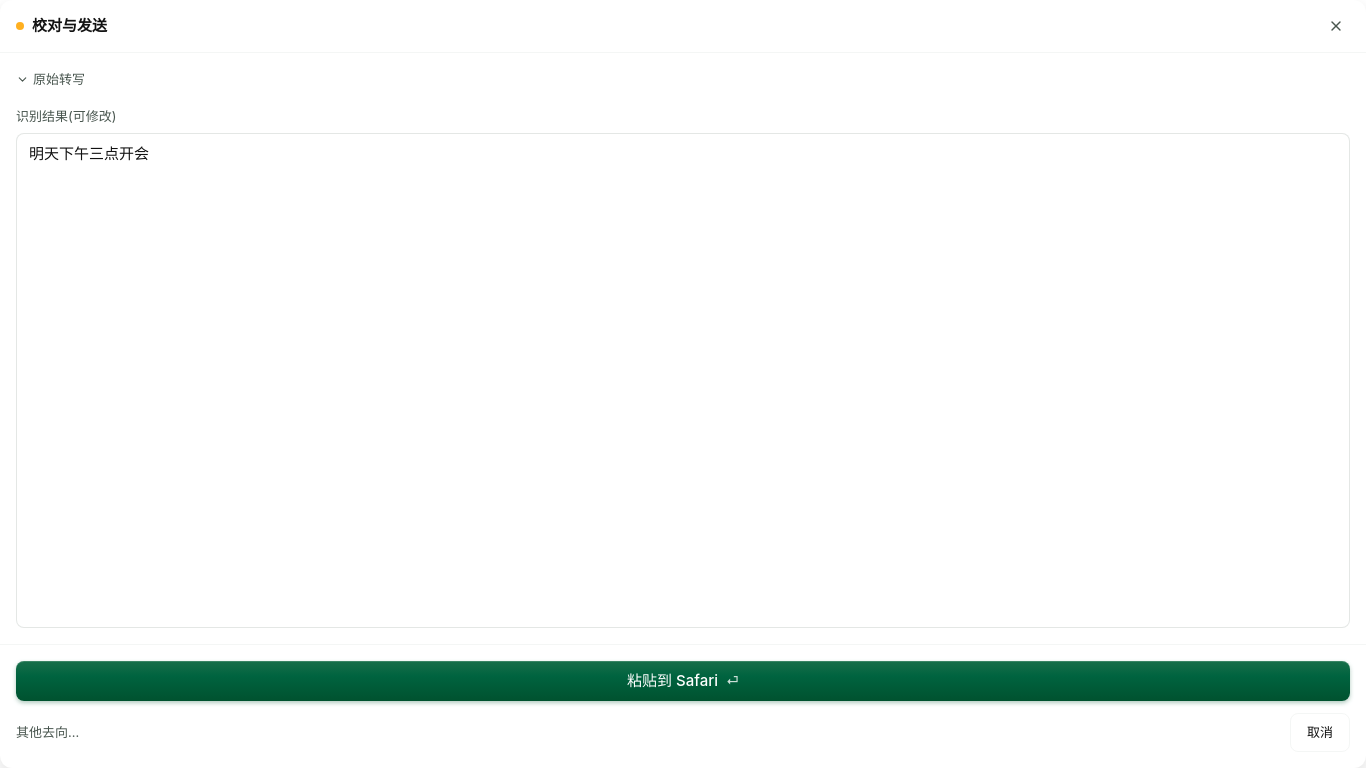
Scenario: review 浮窗页 › 其他去向面板按 available 禁用
Click the button "其他去向…": click(48, 733) [16,722,79,743]
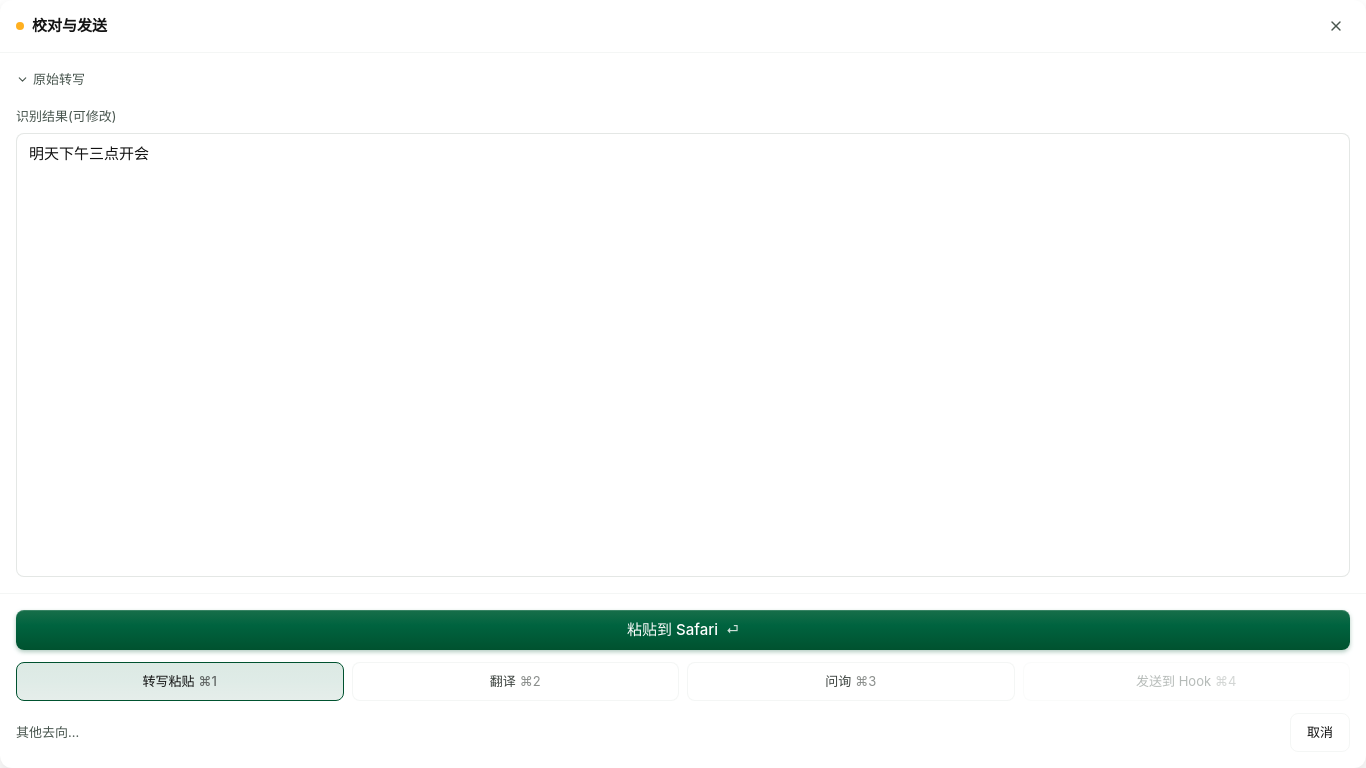
Expected: the button "发送到 Hook⌘4" is disabled, [1022,662,1350,701]
